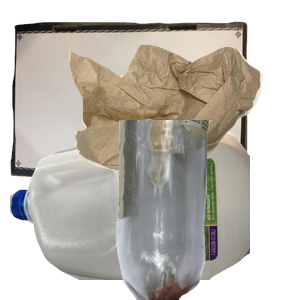cardboard: (10, 19, 250, 199)
glass: (113, 120, 300, 300)
plastic: (10, 120, 250, 300)
trash: (67, 42, 300, 206)
